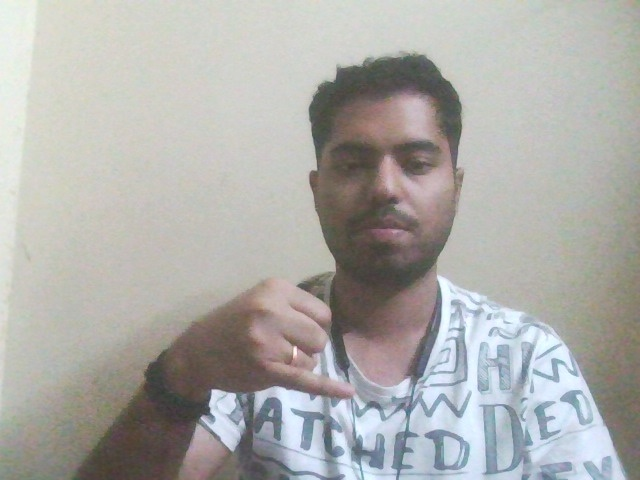L: (154, 247, 370, 426)
